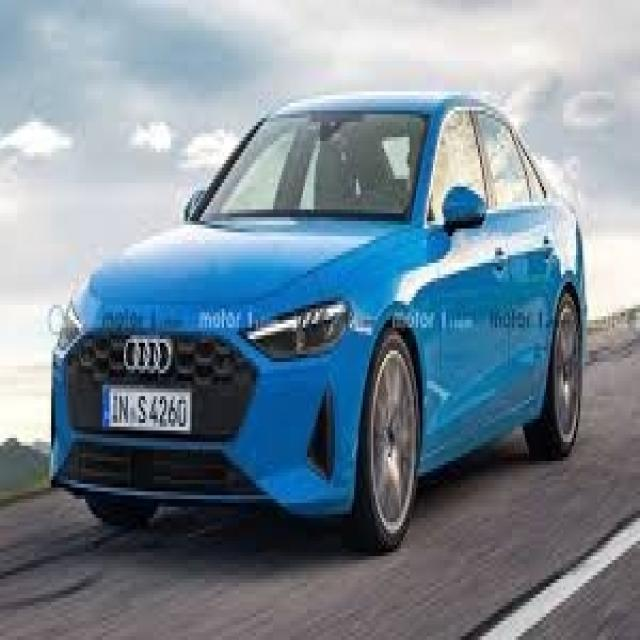blue: (51, 86, 589, 531)
